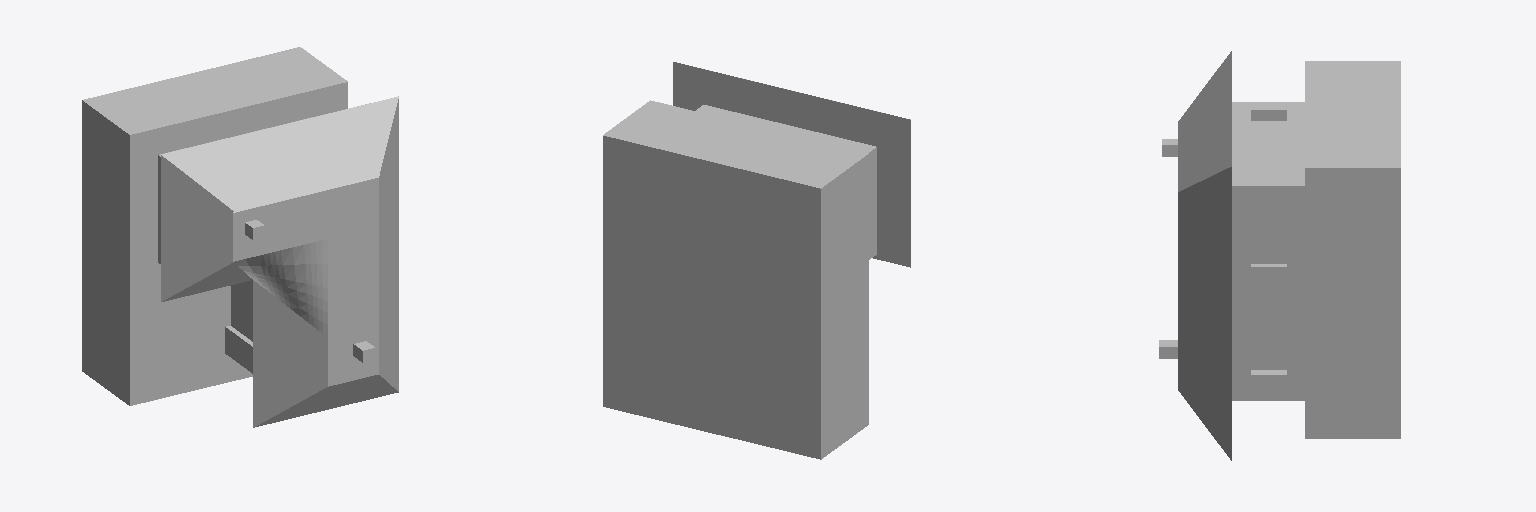
File: Building3.obj
The picture shows the model from 3 angles: view 1: azimuth 30°, elevation 25°; view 2: azimuth 150°, elevation 25°; view 3: azimuth 270°, elevation 25°; orthographic projection.
Parts seen in each view (by area): view 1: Cube; view 2: Cube; view 3: Cube.
Part boxes in pixels (x1,y1,x2,y2): Cube: (82, 47, 398, 427); Cube: (603, 62, 910, 459); Cube: (1159, 51, 1400, 460).
Bounding box in the file's own units: 11.62 × 13.78 × 10.21.